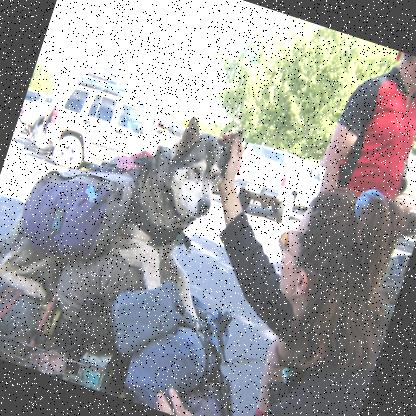Car: (22, 62, 172, 192), (225, 142, 327, 235), (10, 90, 68, 154), (13, 91, 42, 141)
